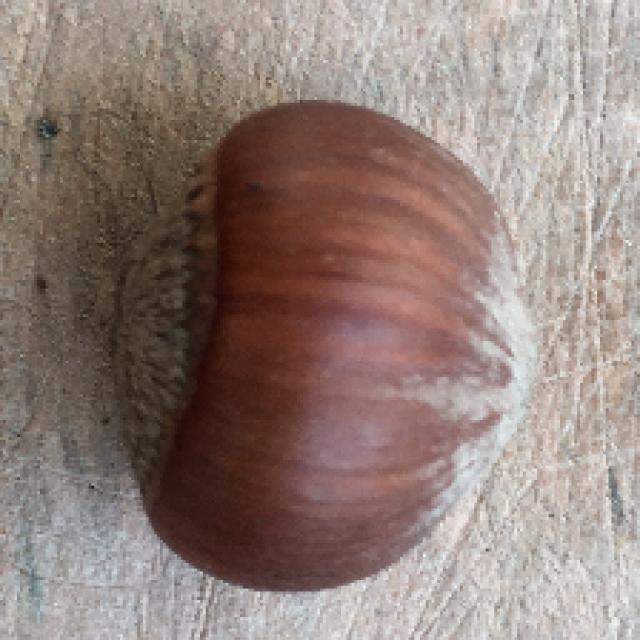qualityHazelnut: (112, 95, 549, 601)
